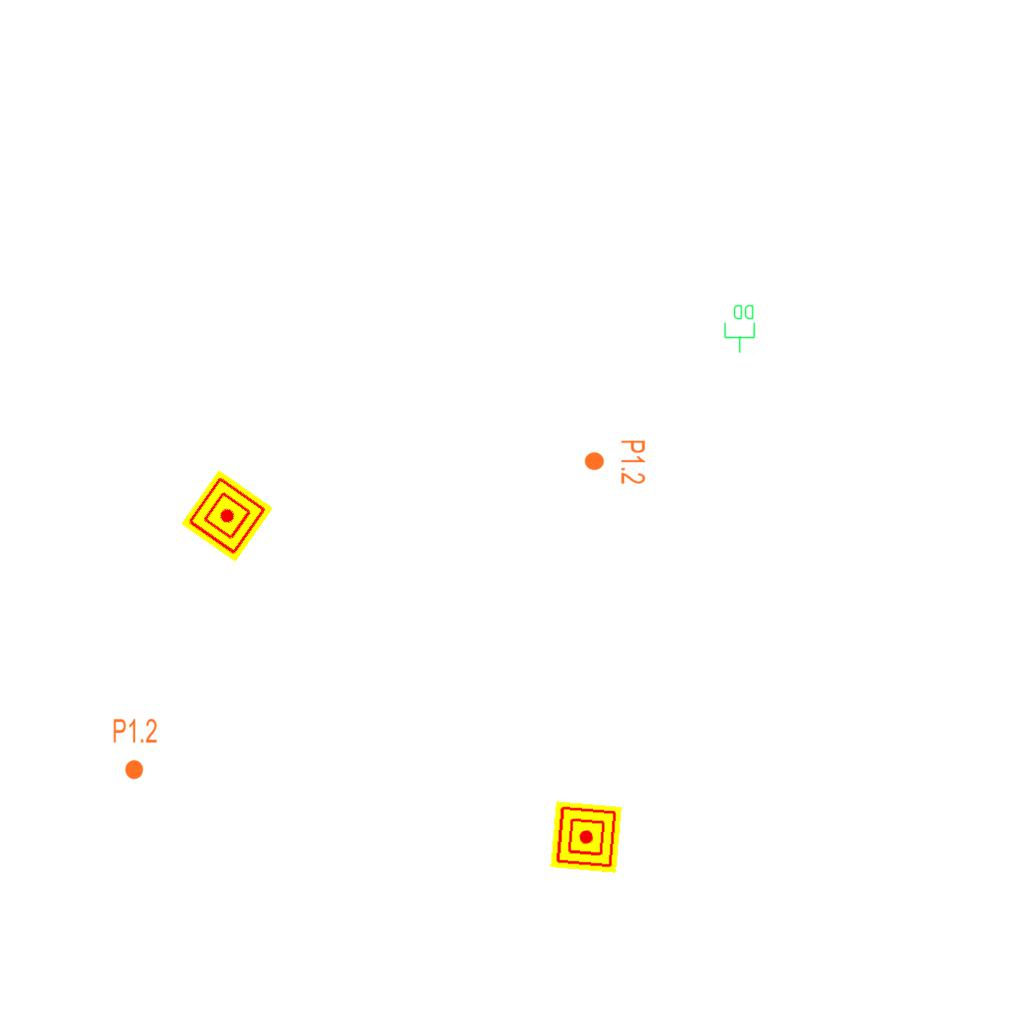Datenanschluss_zweifach: (723, 303, 757, 354)
Downlight_LED_Einbauleuchten_Flur: (583, 439, 647, 485), (112, 717, 158, 781)
NAM-Nichtautomatischer_Melder: (181, 470, 273, 562), (550, 801, 622, 873)
